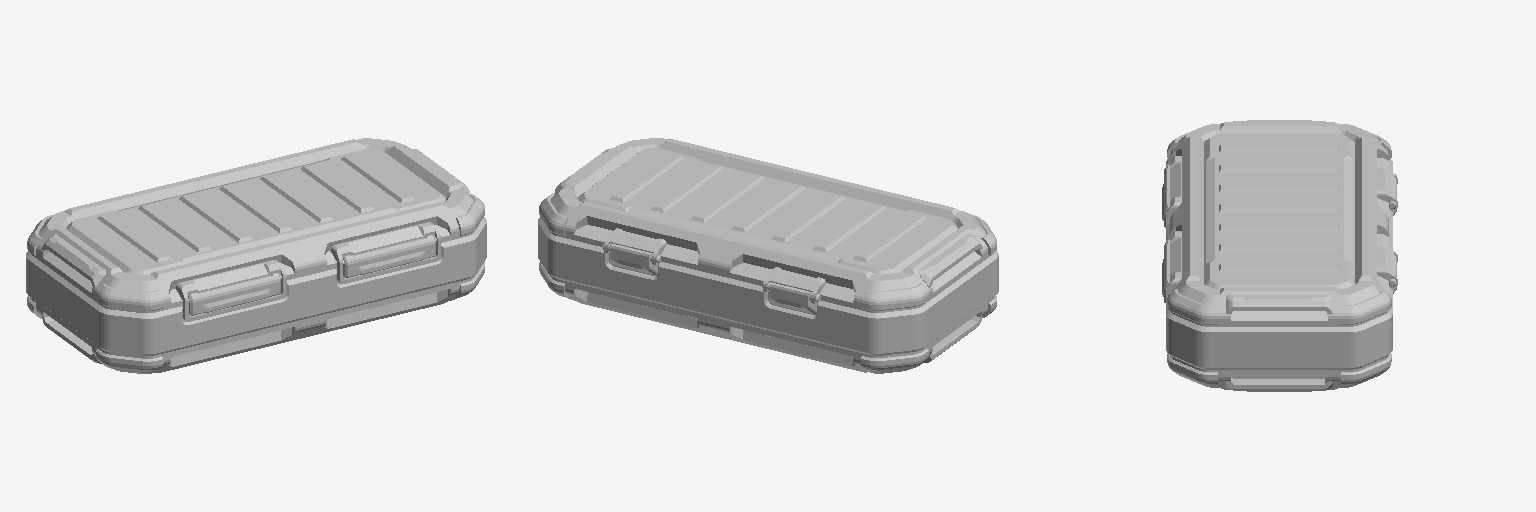
Rendered from militarBox.obj.
The picture shows the model from 3 angles: view 1: azimuth 30°, elevation 25°; view 2: azimuth 150°, elevation 25°; view 3: azimuth 270°, elevation 25°; orthographic projection.
Parts seen in each view (by area): view 1: Upper_box_Куб.011, Lower_box_Куб.008; view 2: Upper_box_Куб.011, Lower_box_Куб.008; view 3: Upper_box_Куб.011, Lower_box_Куб.008.
Part boxes in pixels (left/top/right/bottom): Upper_box_Куб.011: left=27, top=138, right=484, bottom=321; Lower_box_Куб.008: left=26, top=217, right=486, bottom=373; Upper_box_Куб.011: left=539, top=138, right=996, bottom=312; Lower_box_Куб.008: left=538, top=217, right=998, bottom=373; Upper_box_Куб.011: left=1162, top=120, right=1397, bottom=326; Lower_box_Куб.008: left=1166, top=159, right=1396, bottom=391.
Size of the model in its own units: 4.08 by 1.01 by 2.15.